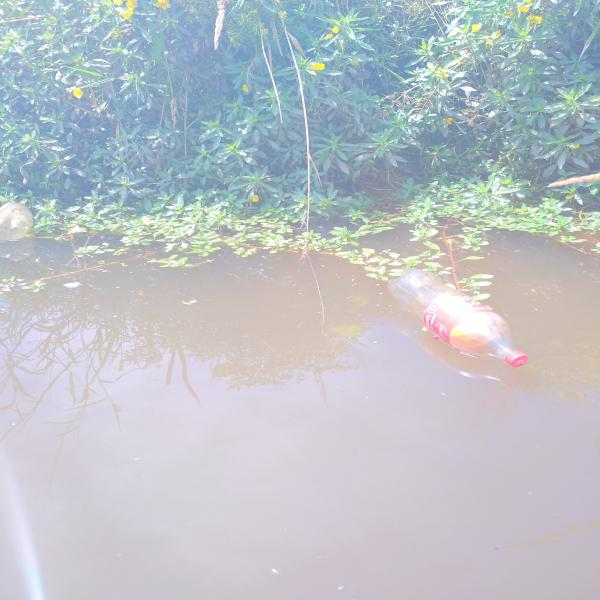bottles: (383, 262, 530, 366), (0, 200, 37, 240)
